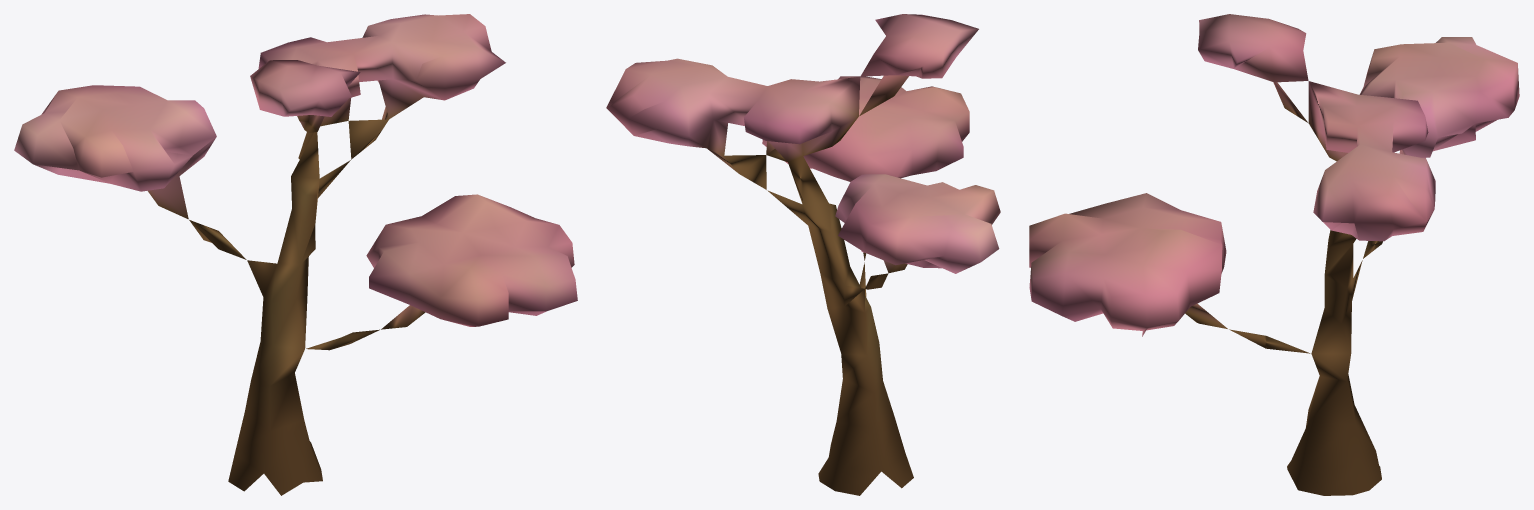
Rendered from cloud-tree-102-lod2.obj.
3 renders of one model, left to right at view 1: azimuth 30°, elevation 25°; view 2: azimuth 150°, elevation 25°; view 3: azimuth 270°, elevation 25°, orthographic. The views are drawn at different scales.
Visible parts, largest first — view 1: simplified; view 2: simplified; view 3: simplified.
Boxes of the visible parts, x1,y1,x2,y2 form: simplified: (14, 14, 577, 495); simplified: (606, 14, 1000, 495); simplified: (1029, 14, 1519, 495).
Size of the model in its own units: 289 by 290 by 292.
